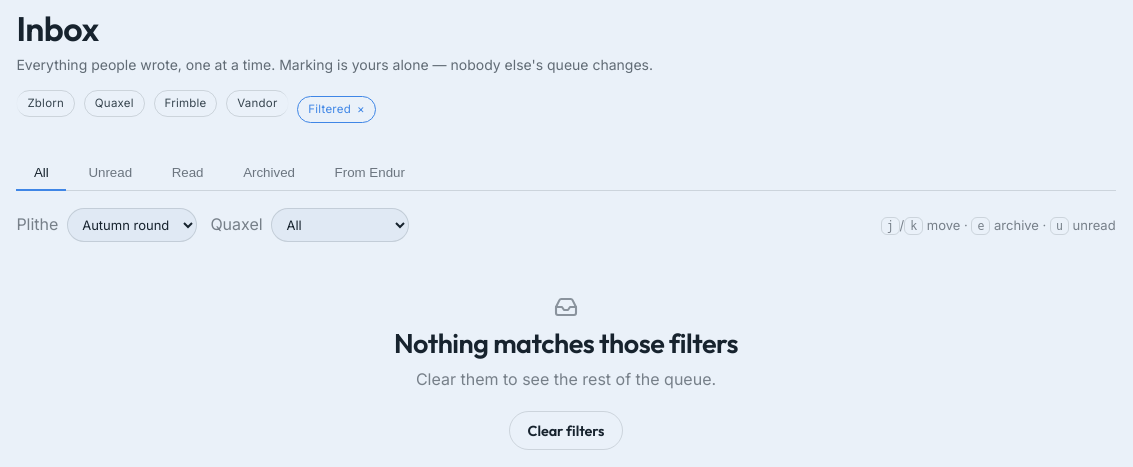
it: three empties, because they mean three different things › offers to clear the filters, and names the org’s own noun in the link
Expected: the heading "Nothing matches those filters" is shown, [394,328,738,359]
Click the button "Clear filters" at (566, 430), box [509,411,623,450]
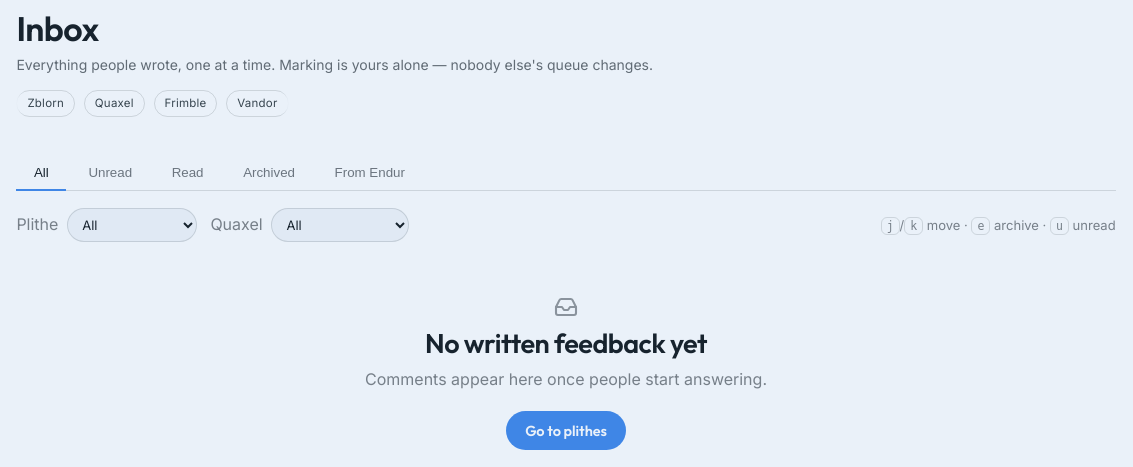
Expected: the heading "No written feedback yet" is shown, [425,328,707,359]
Expected: the link shows "plithes", [506,411,626,450]
